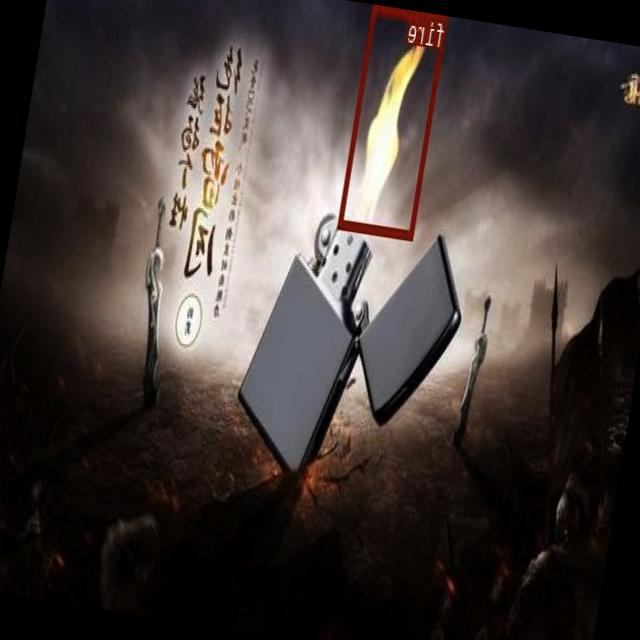fire: (340, 4, 450, 240)
